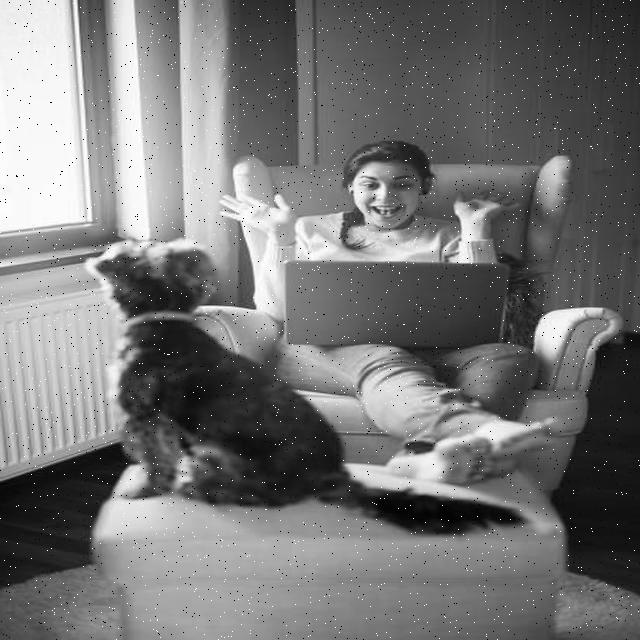Surprised: (353, 164, 419, 230)
